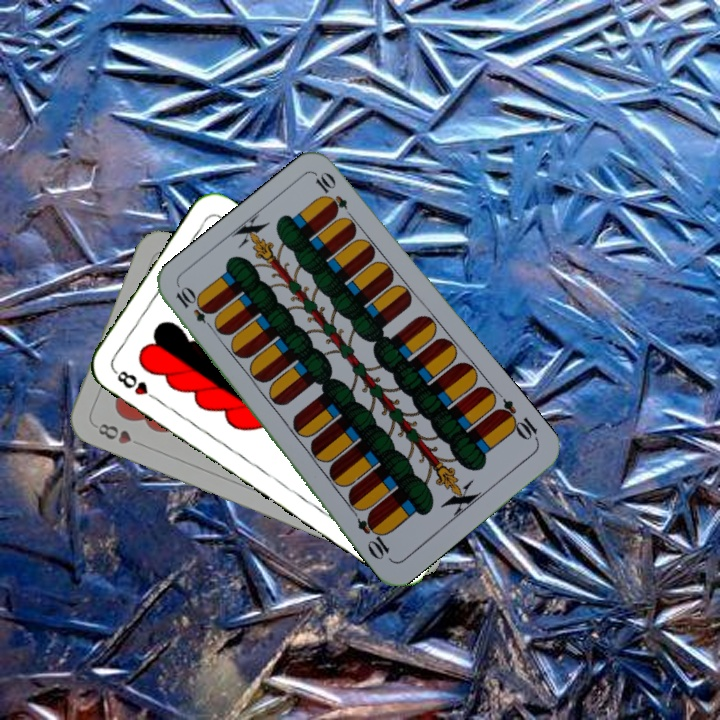E10: (171, 283, 219, 334), (492, 395, 541, 444)
H8: (110, 366, 162, 405), (94, 419, 147, 449)
